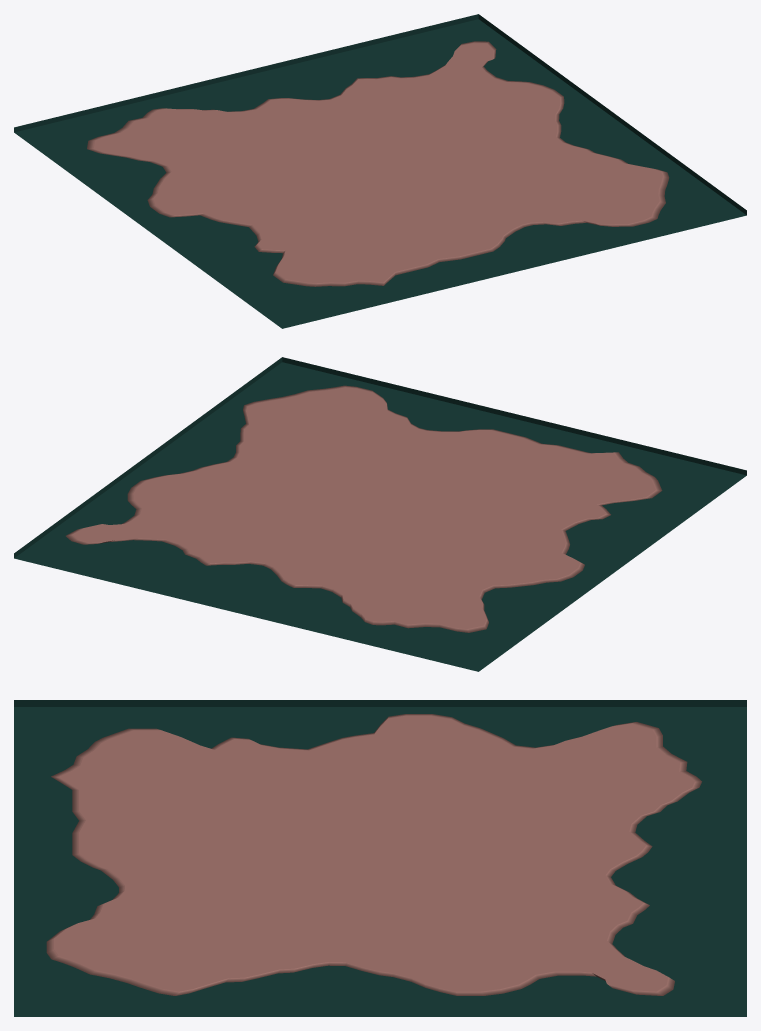
The model's file is Dedak.fbx.
The picture shows the model from 3 angles, top to bottom: view 1: azimuth 30°, elevation 25°; view 2: azimuth 150°, elevation 25°; view 3: azimuth 270°, elevation 25°; orthographic projection. The views are drawn at different scales.
Parts seen in each view (by area): view 1: Plane, Cube; view 2: Plane, Cube; view 3: Plane, Cube.
Part boxes in pixels (left/top/right/bottom): Plane: left=87, top=41, right=669, bottom=286; Cube: left=14, top=14, right=746, bottom=328; Plane: left=66, top=385, right=662, bottom=632; Cube: left=14, top=357, right=746, bottom=671; Plane: left=46, top=714, right=701, bottom=995; Cube: left=14, top=700, right=746, bottom=1016.
Bounding box in the file's own units: 84.55 × 1.06 × 84.55.
